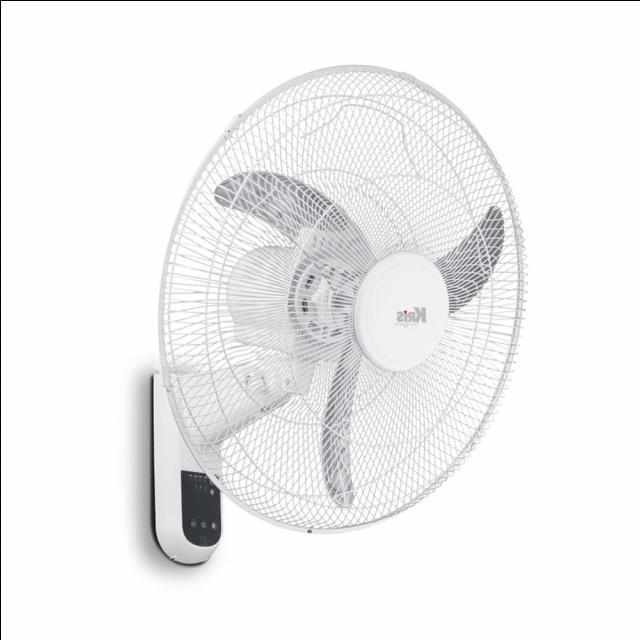fan: (139, 57, 528, 571)
